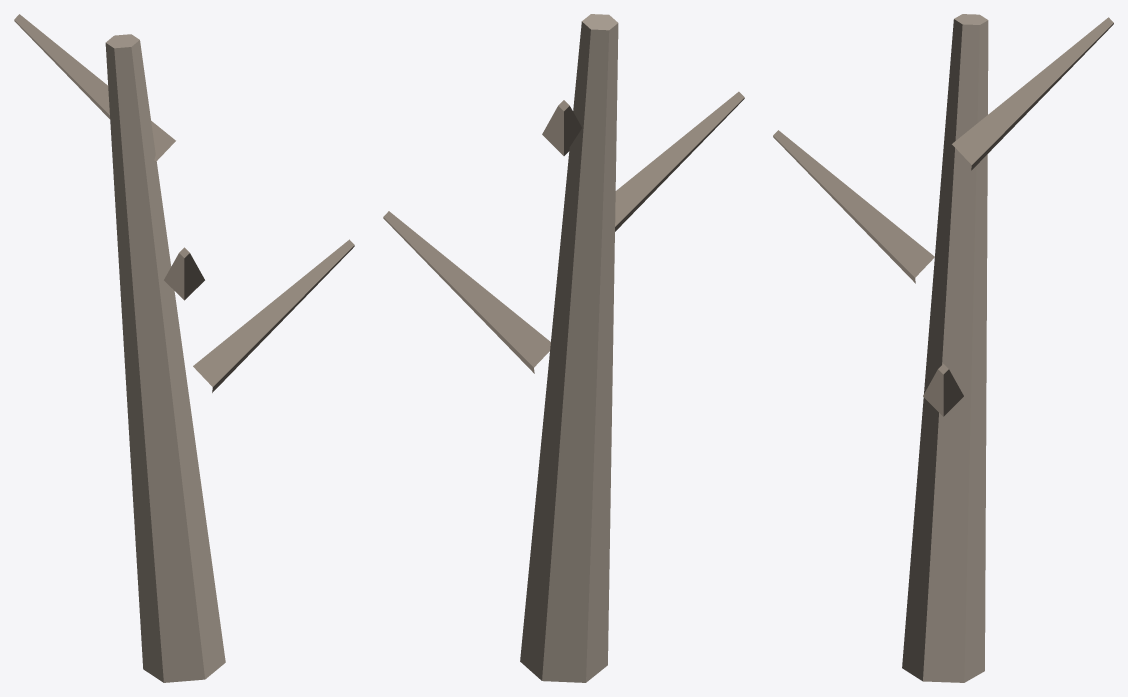
The model's file is deadtree_v00.glb.
The picture shows the model from 3 angles, left to right: view 1: azimuth 30°, elevation 25°; view 2: azimuth 150°, elevation 25°; view 3: azimuth 270°, elevation 25°; orthographic projection. The views are drawn at different scales.
Visible parts, largest first — view 1: lod0; view 2: lod0; view 3: lod0.
Part boxes in pixels (x1=…): lod0: x1=14, y1=14, x2=354, y2=682; lod0: x1=383, y1=14, x2=744, y2=682; lod0: x1=773, y1=14, x2=1113, y2=682.
Size of what is drawn, in the model's own units: 1.38 by 3.22 by 1.58.
